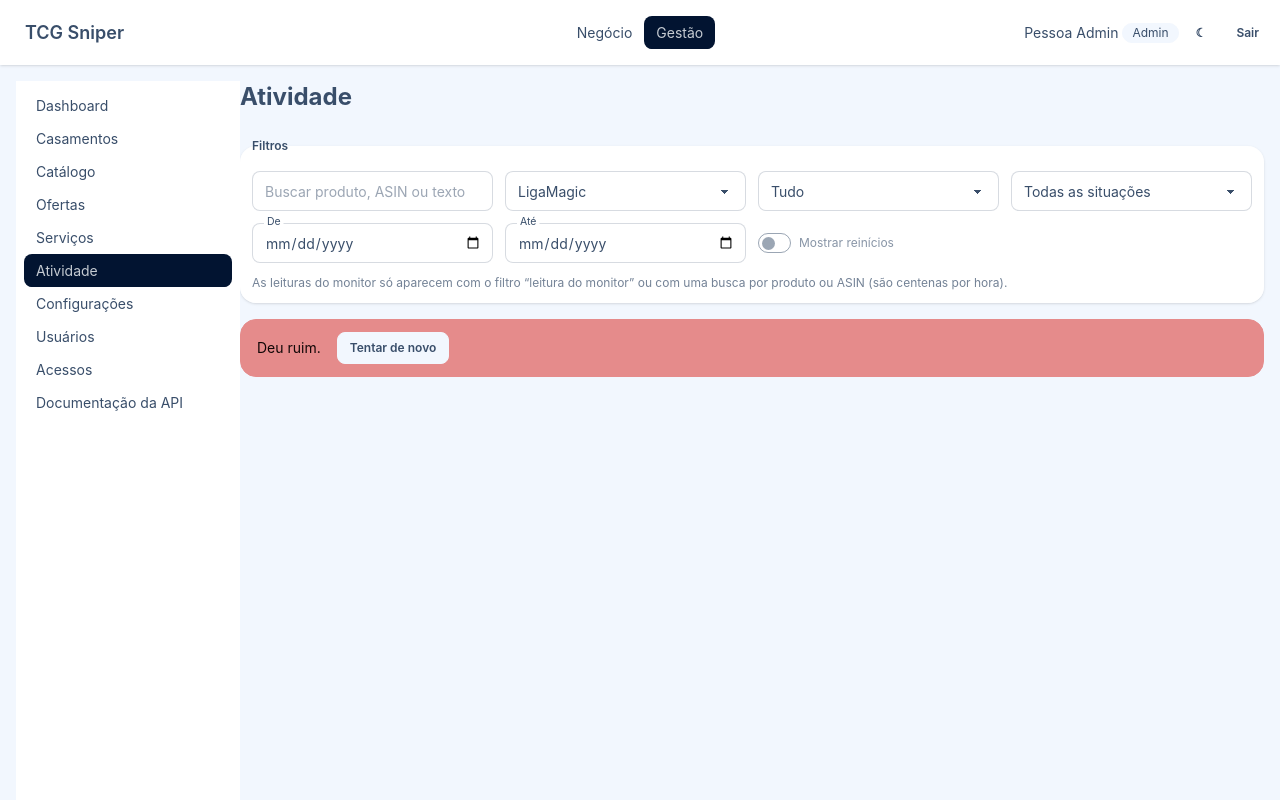
it: Atividade › vazio com filtro oferece Limpar filtros; erro oferece Tentar de novo
Click the button "Tentar de novo": x=393, y=348 [337,332,449,364]
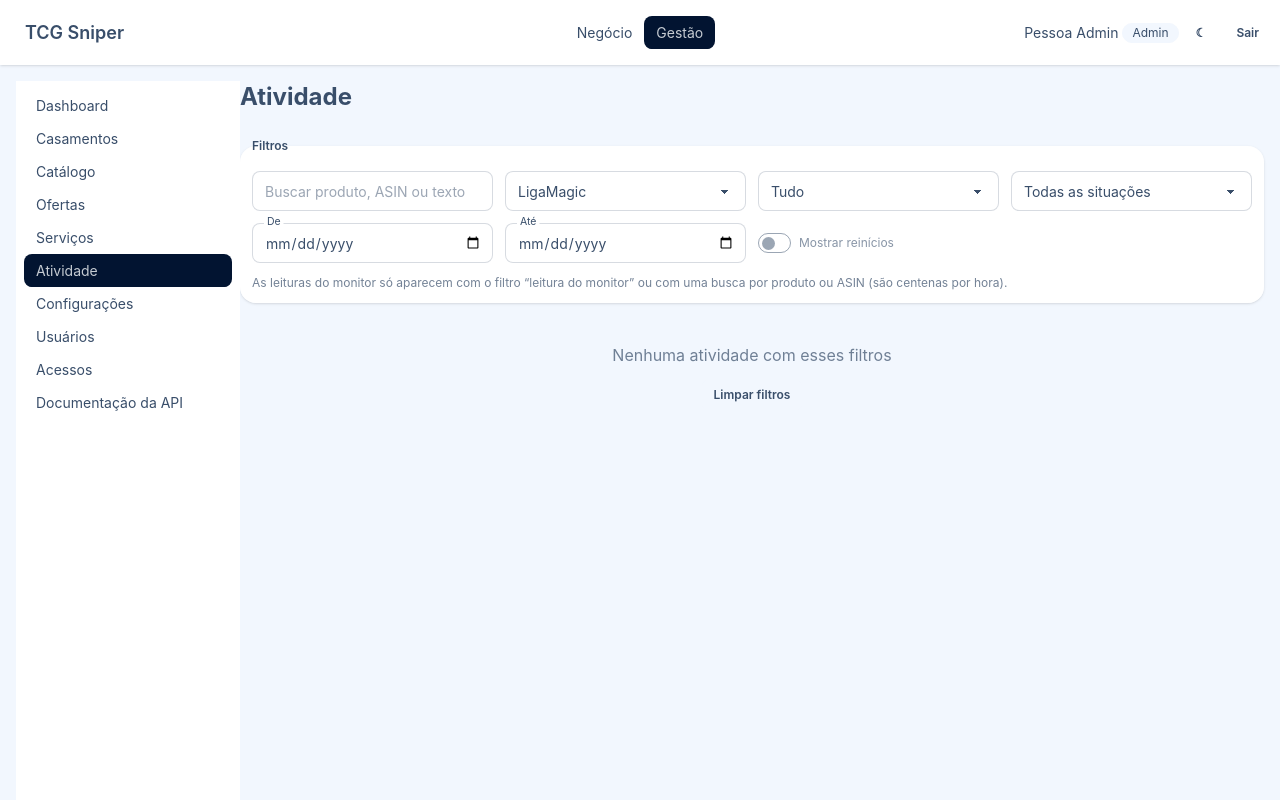
Now the text "Nenhuma atividade com esses filtros" is shown, box [612,345,892,365]
Click the button "Limpar filtros": x=752, y=395 [701,379,803,411]
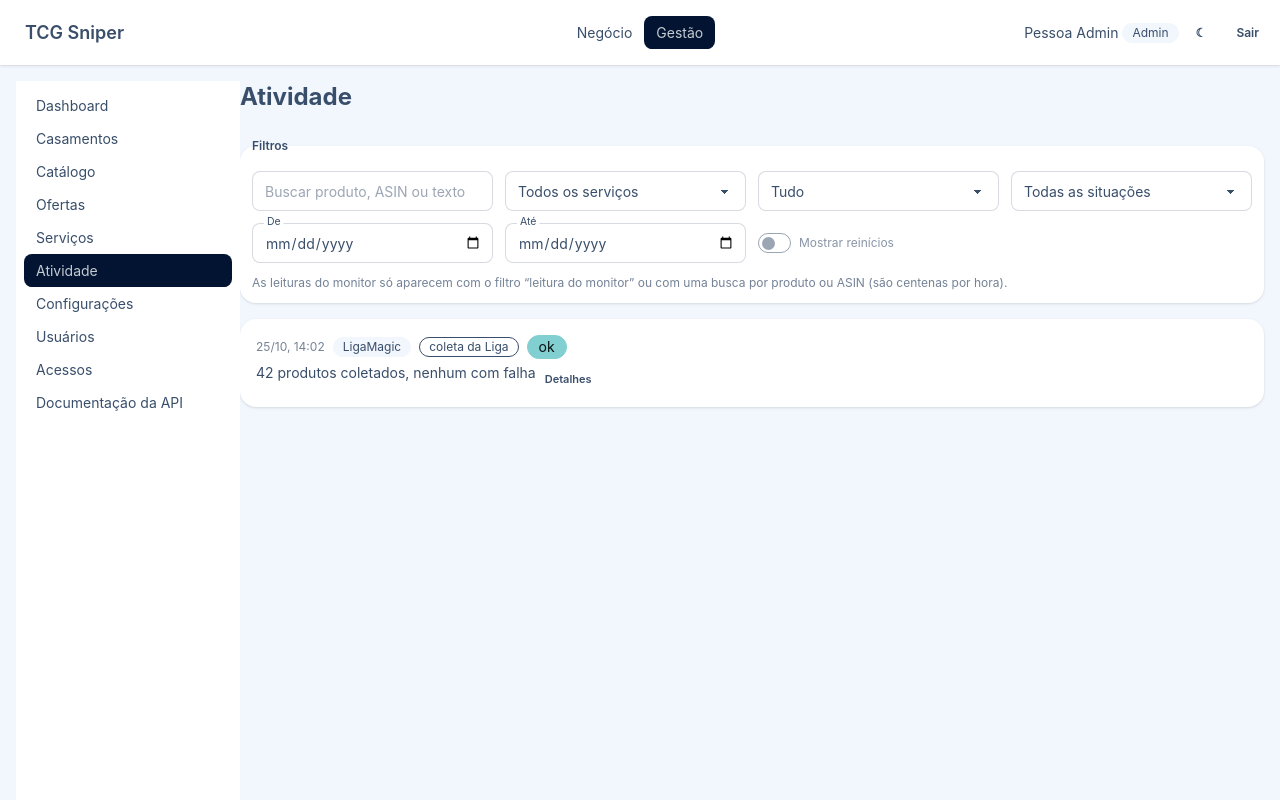
Now the text "42 produtos coletados, nenhum com falha" is shown, box [256,363,536,383]
